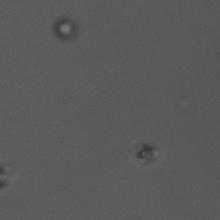Dead Cell: (134, 139, 159, 163)
Living Cell: (55, 16, 76, 37)
